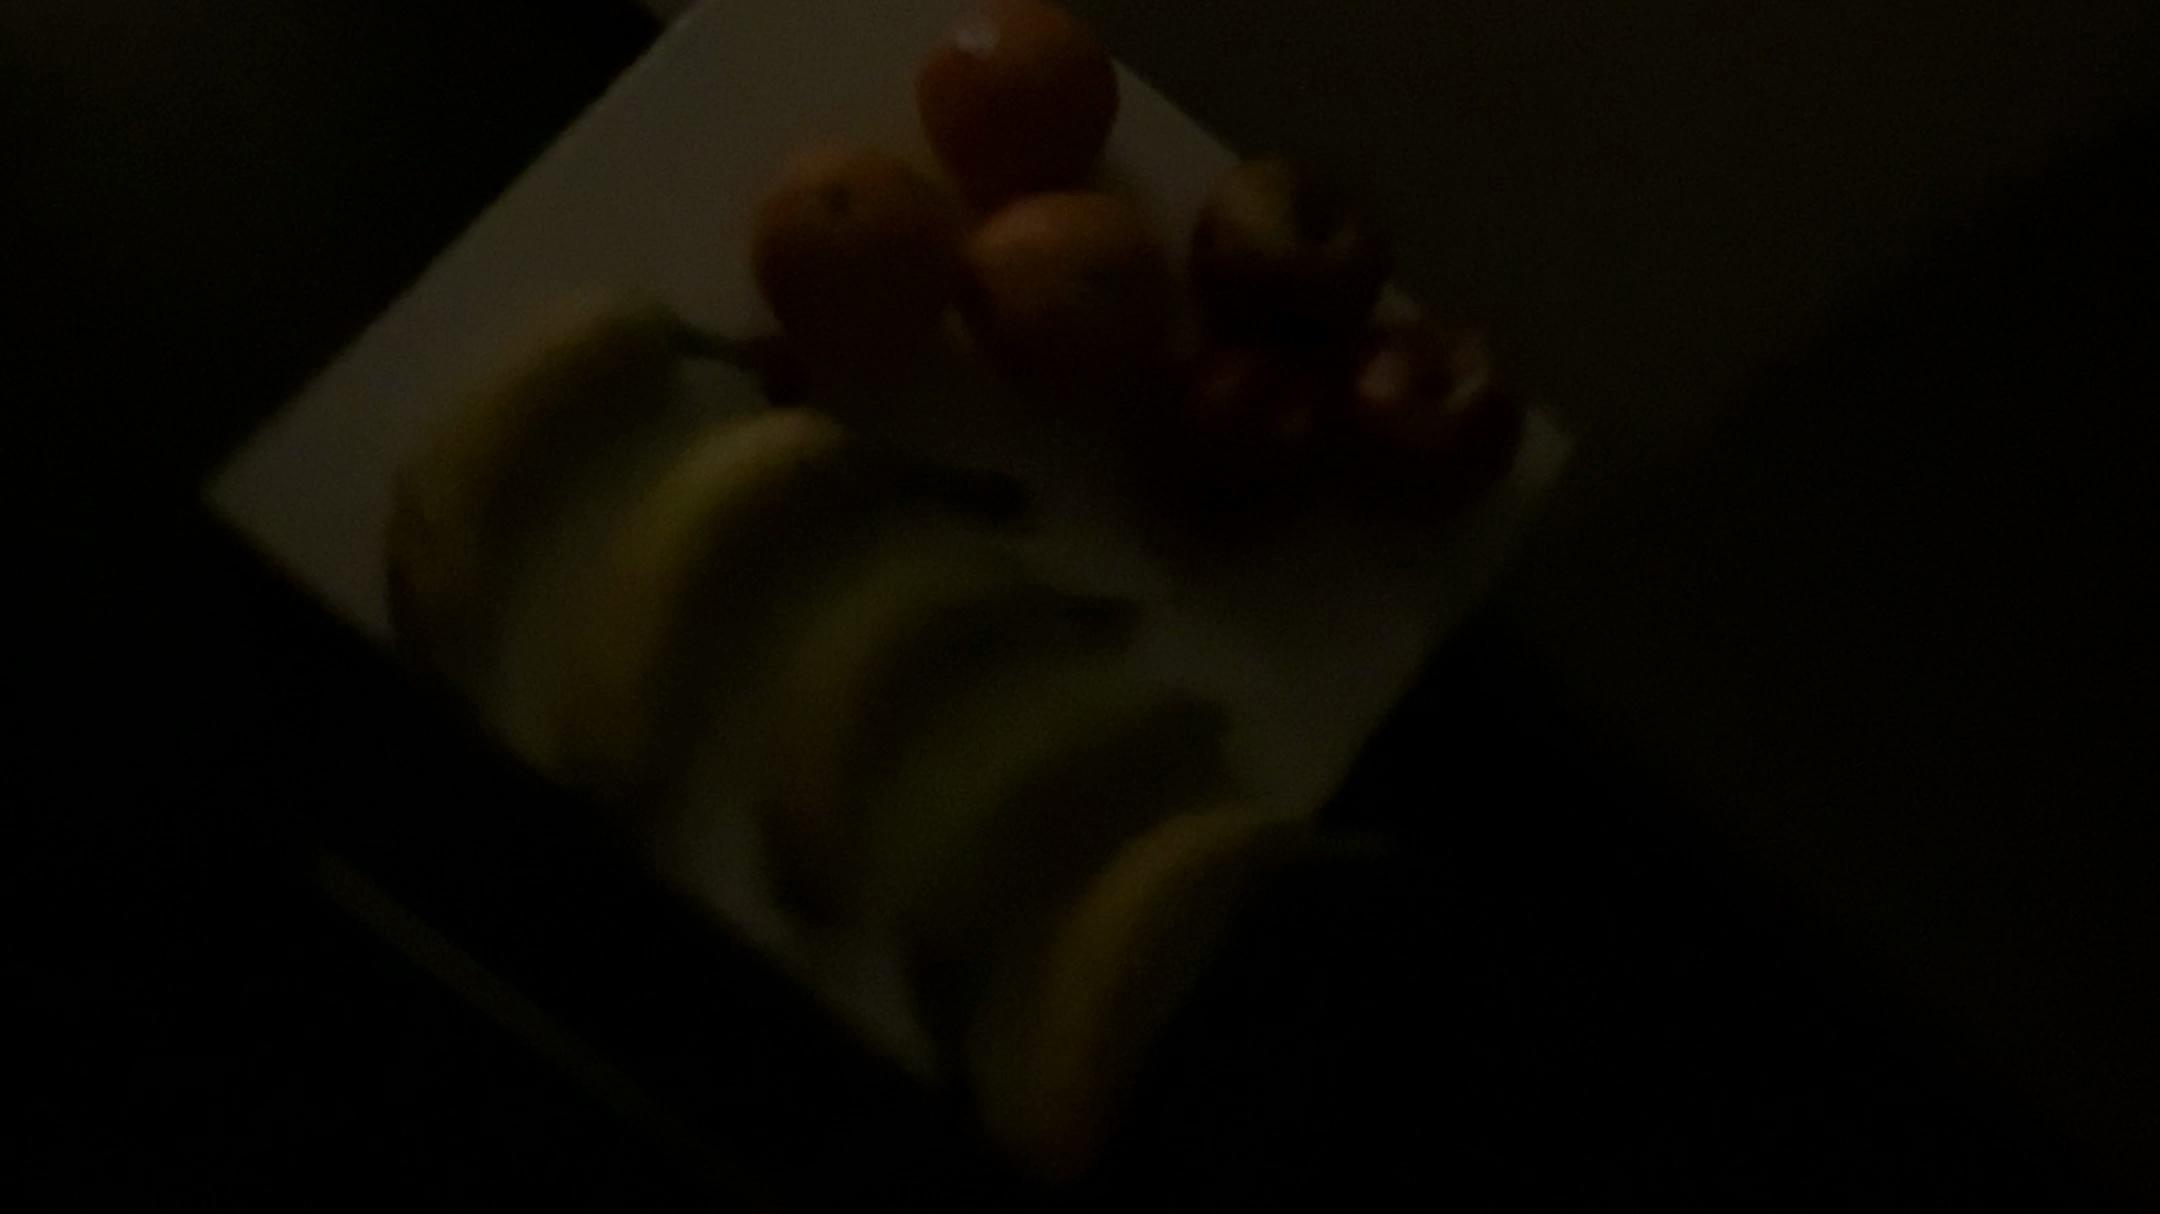apple: (1139, 309, 1360, 562), (1323, 289, 1524, 530), (1187, 134, 1384, 365)
banana: (346, 269, 791, 729), (743, 473, 1120, 905), (553, 352, 900, 795), (899, 646, 1208, 1063), (1003, 772, 1322, 1135)
orange: (754, 123, 958, 359), (958, 169, 1157, 404), (903, 16, 1141, 193)
